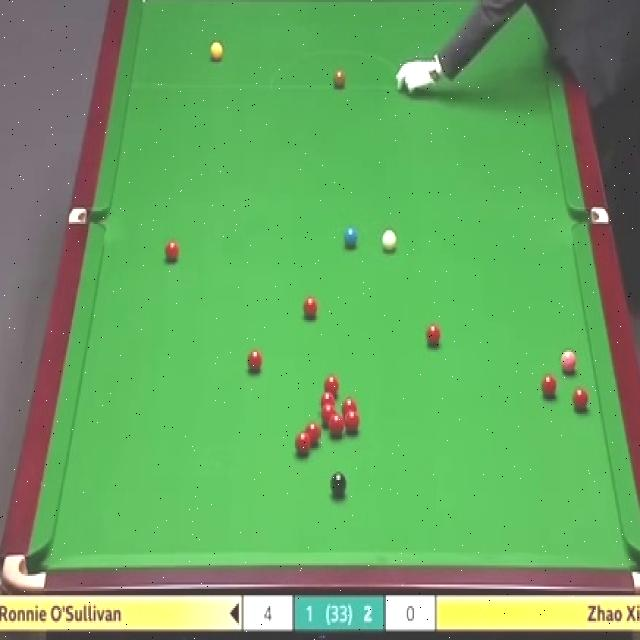black-ball: (330, 470, 347, 500)
blue-ball: (343, 225, 359, 248)
brown-ball: (332, 68, 346, 89)
pink-ball: (560, 348, 577, 375)
red-ball: (246, 348, 264, 377), (305, 424, 323, 449), (542, 374, 560, 399), (294, 432, 311, 458), (572, 388, 590, 412), (344, 410, 360, 436), (426, 322, 442, 348), (302, 297, 319, 320), (329, 412, 344, 437), (165, 240, 179, 264), (322, 375, 340, 392), (321, 405, 335, 425), (320, 391, 334, 408), (342, 399, 357, 414)
white-ball: (380, 230, 396, 255)
yellow-ball: (210, 42, 224, 64)
